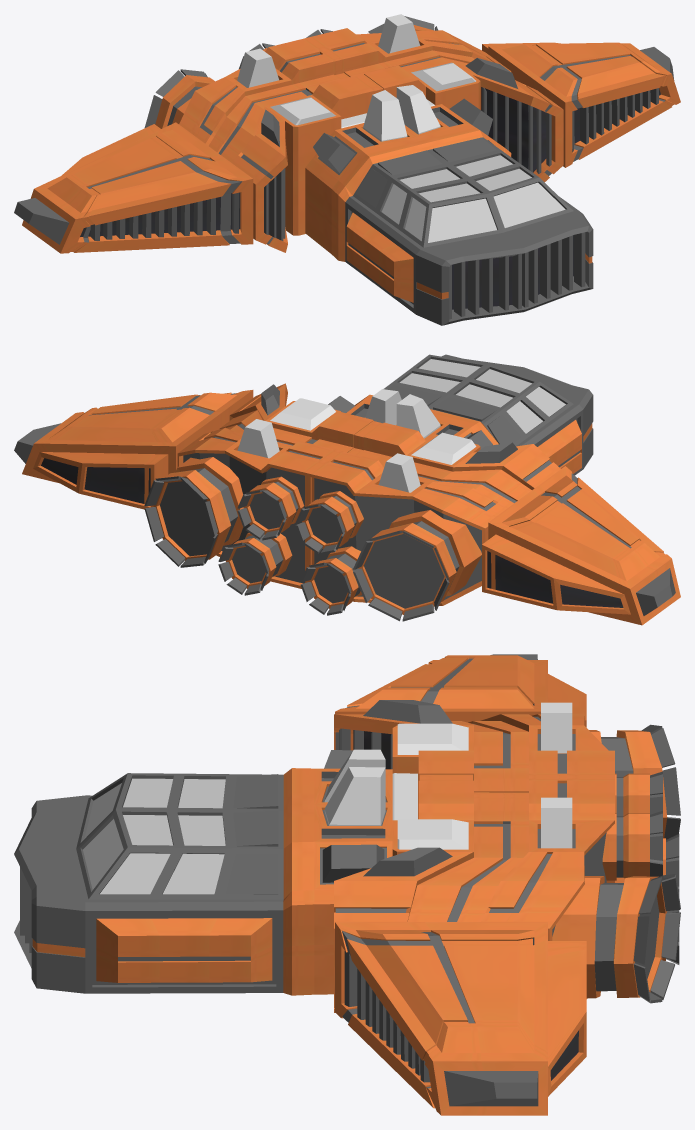
Rendered from OrangeBarrage.fbx.
3 views of the same model, one above another, from view 1: azimuth 30°, elevation 25°; view 2: azimuth 150°, elevation 25°; view 3: azimuth 270°, elevation 25° (orthographic). The views are drawn at different scales.
Visible parts, largest first — view 1: OrangeCockpit, OrangeChassi, OrangeWings; view 2: OrangeChassi, OrangeWings, OrangeCockpit; view 3: OrangeCockpit, OrangeChassi, OrangeWings.
Part boxes in pixels (box(x1,y1,x2,y2)): OrangeCockpit: box(305, 85, 593, 325); OrangeChassi: box(144, 14, 563, 252); OrangeWings: box(14, 42, 680, 253); OrangeChassi: box(144, 383, 560, 621); OrangeWings: box(14, 390, 680, 625); OrangeCockpit: box(328, 354, 593, 475); OrangeCockpit: box(14, 749, 417, 995); OrangeChassi: box(334, 700, 680, 1012); OrangeWings: box(335, 654, 586, 1115).
Bounding box in the file's own units: 12.38 × 2.44 × 8.06.
